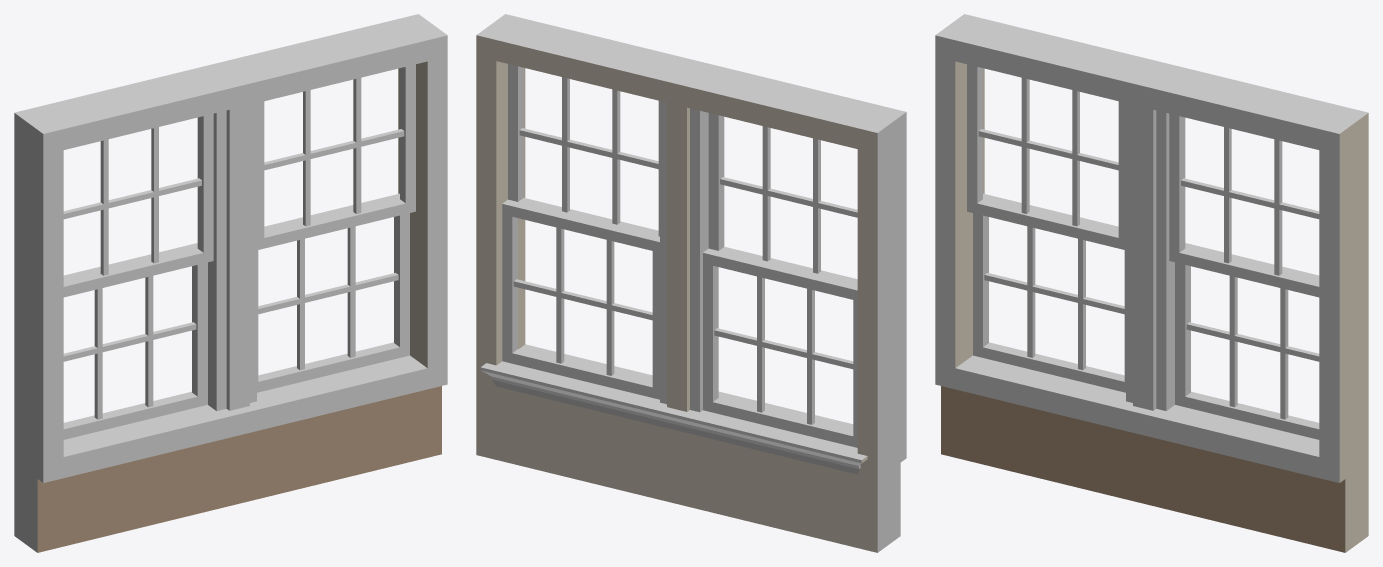
The model's file is Structure_Exterior_Window_Double.obj.
3 views of the same model, side by side, from view 1: azimuth 30°, elevation 25°; view 2: azimuth 150°, elevation 25°; view 3: azimuth 330°, elevation 25° (orthographic).
Visible parts, largest first — view 1: object5, object1, object2, object4, object3; view 2: object5, object2, object4, object1, object3; view 3: object5, object3, object4, object2, object1.
Part boxes in pixels (left/top/right/bottom): object5: left=14, top=14, right=447, bottom=552; object1: left=257, top=64, right=415, bottom=250; object2: left=257, top=193, right=409, bottom=392; object4: left=63, top=243, right=207, bottom=439; object3: left=63, top=113, right=213, bottom=297; object5: left=476, top=14, right=906, bottom=552; object2: left=502, top=199, right=659, bottom=399; object4: left=703, top=248, right=857, bottom=447; object1: left=508, top=64, right=659, bottom=236; object3: left=708, top=113, right=857, bottom=284; object5: left=935, top=14, right=1368, bottom=552; object3: left=967, top=64, right=1125, bottom=250; object4: left=973, top=193, right=1125, bottom=392; object2: left=1175, top=243, right=1319, bottom=439; object1: left=1169, top=113, right=1319, bottom=297.
Size of the model in its own units: 2 by 2 by 0.3.
